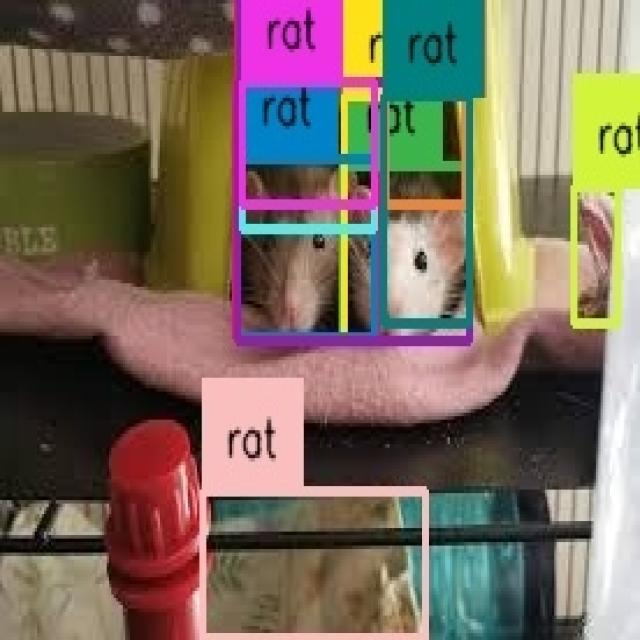rat: (237, 80, 470, 343), (237, 82, 376, 338), (204, 492, 427, 638), (343, 94, 471, 343), (237, 158, 376, 340), (342, 164, 470, 343), (241, 82, 376, 229), (385, 94, 468, 322), (242, 80, 374, 203), (386, 94, 465, 203), (574, 187, 618, 324)
